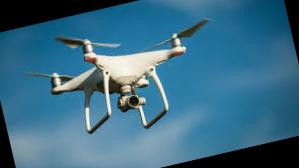drone: (16, 0, 229, 146)
